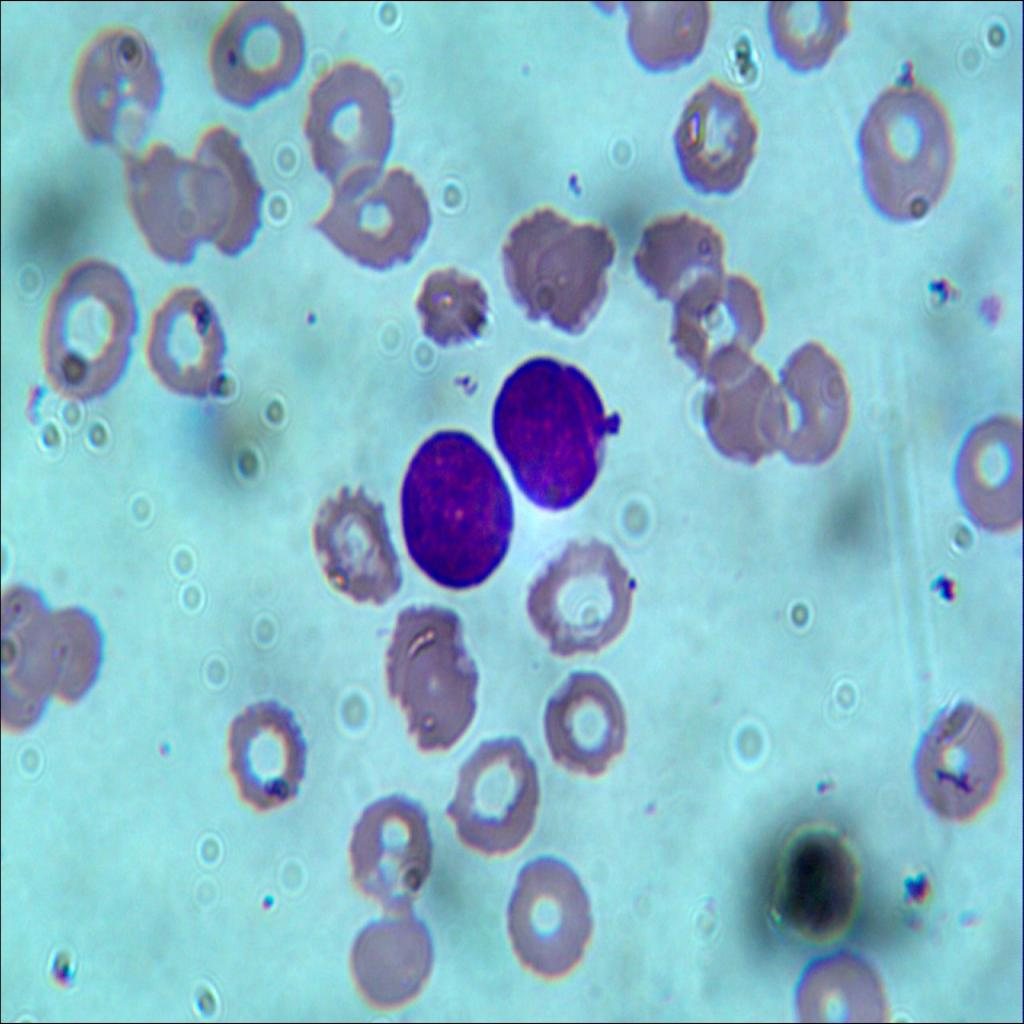Eritrosit: (902, 692, 1008, 842), (856, 81, 954, 238), (312, 477, 418, 622), (40, 258, 138, 408), (524, 534, 646, 651), (178, 117, 268, 268), (324, 164, 436, 278), (73, 23, 166, 158), (443, 722, 539, 848), (764, 338, 854, 471), (541, 655, 631, 787), (696, 344, 786, 474), (775, 814, 863, 944), (303, 65, 391, 191), (0, 586, 68, 738), (675, 81, 761, 201), (126, 144, 215, 258), (506, 852, 590, 972), (220, 701, 314, 808), (214, 2, 303, 111), (351, 903, 438, 1008), (351, 792, 433, 902), (678, 274, 764, 376), (153, 290, 231, 402), (953, 417, 1023, 541), (415, 255, 491, 364), (35, 594, 104, 711), (790, 942, 889, 1023), (638, 218, 722, 307), (510, 207, 576, 317), (764, 4, 846, 88), (544, 224, 611, 318), (624, 0, 709, 74)
Limfoblast: (489, 355, 619, 524), (399, 428, 514, 586)
Platelet: (974, 287, 1008, 344), (299, 292, 331, 335), (256, 865, 278, 915), (146, 729, 172, 770), (616, 558, 638, 597), (640, 788, 658, 815), (521, 54, 531, 78)
